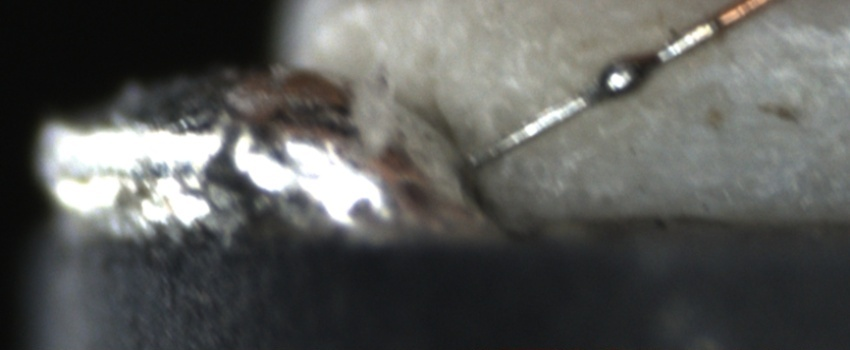DL: (682, 53, 850, 94)
TB: (600, 57, 642, 105)
TS: (462, 22, 718, 167)
TTCW: (465, 1, 770, 166)
